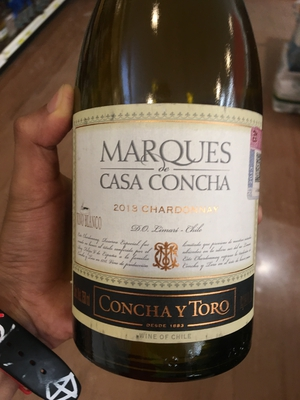marques de casa concha chardonnay: (71, 12, 269, 368)
